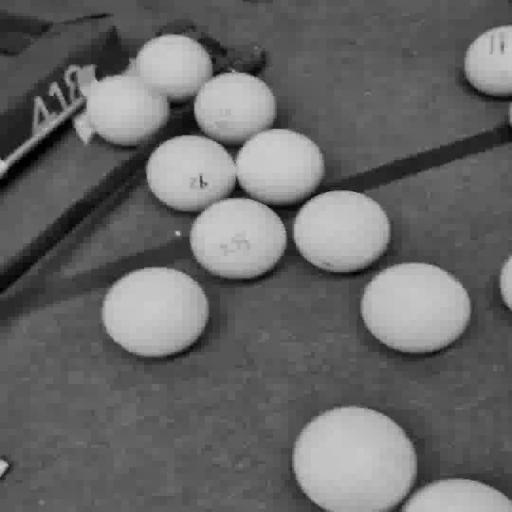fuel: (293, 407, 417, 511), (361, 263, 471, 353), (102, 267, 209, 357), (293, 191, 390, 273), (190, 199, 287, 279), (146, 135, 236, 212), (236, 129, 324, 206), (86, 74, 170, 145), (194, 73, 276, 145), (136, 35, 213, 102), (401, 479, 511, 511), (464, 26, 511, 97), (500, 256, 511, 310)
